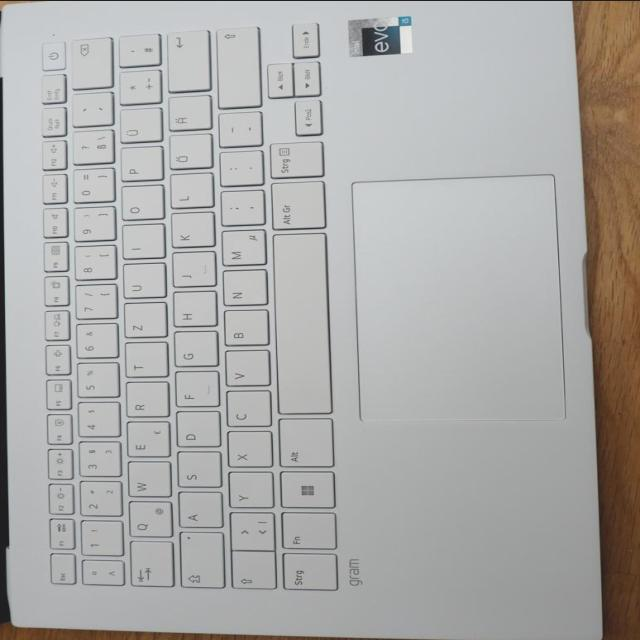0: (68, 169, 112, 205)
1: (77, 522, 120, 558)
2: (75, 482, 119, 519)
3: (74, 442, 118, 479)
4: (72, 403, 118, 439)
5: (73, 364, 117, 400)
6: (72, 324, 116, 360)
7: (71, 286, 115, 322)
8: (70, 247, 114, 283)
9: (68, 208, 112, 244)
a: (174, 493, 220, 530)
accent: (67, 94, 111, 128)
ae: (163, 97, 209, 133)
alt-left: (274, 419, 332, 471)
altgr-right: (266, 183, 324, 234)
b: (220, 311, 266, 349)
c: (222, 392, 269, 430)
caret: (78, 561, 122, 587)
comma: (216, 191, 262, 228)
d: (171, 413, 218, 450)
del: (65, 38, 111, 90)
e: (122, 422, 168, 460)
enter: (162, 31, 208, 93)
f: (171, 372, 218, 410)
g: (169, 333, 216, 370)
h: (169, 293, 215, 329)
hash: (115, 35, 159, 69)
i: (117, 226, 163, 262)
j: (167, 254, 213, 290)
k: (166, 214, 212, 250)
keyboard: (34, 16, 345, 601)
l: (165, 175, 211, 211)
less: (225, 513, 272, 553)
m: (217, 231, 264, 269)
minus: (214, 113, 260, 150)
n: (219, 271, 265, 308)
o: (116, 187, 162, 223)
oe: (165, 136, 211, 172)
p: (115, 148, 161, 184)
plus: (113, 71, 159, 107)
point: (215, 152, 261, 188)
q: (124, 502, 170, 540)
r: (121, 383, 167, 420)
s: (173, 453, 219, 490)
shift-left: (227, 553, 274, 592)
shift-lock: (176, 533, 222, 591)
shift-right: (212, 28, 259, 110)
space: (269, 235, 329, 417)
ss: (68, 131, 112, 167)
strg-left: (277, 555, 335, 593)
strg-right: (264, 143, 322, 181)
t: (120, 344, 166, 380)
tab: (125, 543, 171, 589)
u: (118, 265, 164, 301)
ue: (115, 110, 161, 146)
v: (220, 351, 268, 389)
w: (123, 463, 169, 500)
x: (223, 432, 271, 470)
y: (224, 473, 271, 511)
z: (119, 304, 165, 341)
